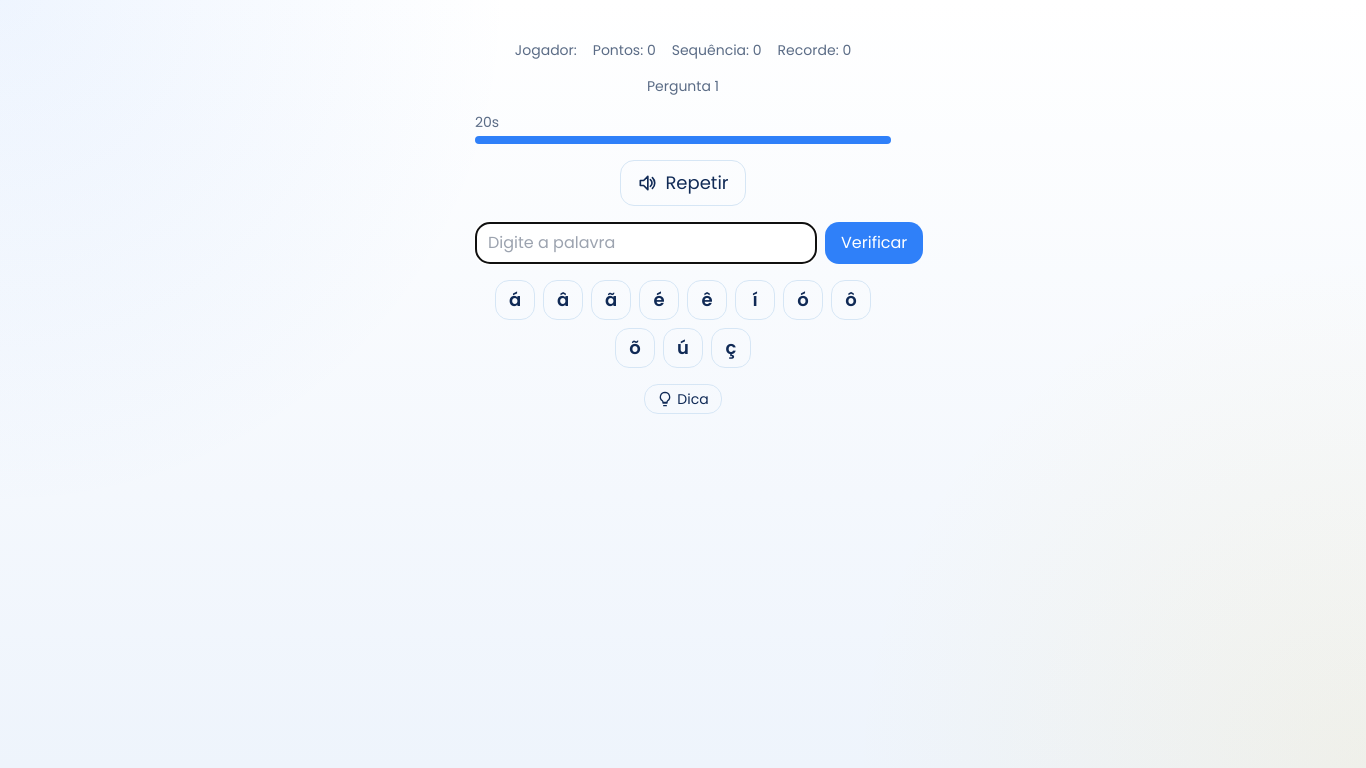
Test: Teclas de acento › adds the letter at the end when typing
Type "a" into the field.
click(646, 243); type("a")  # box x1=475 y1=222 x2=817 y2=264
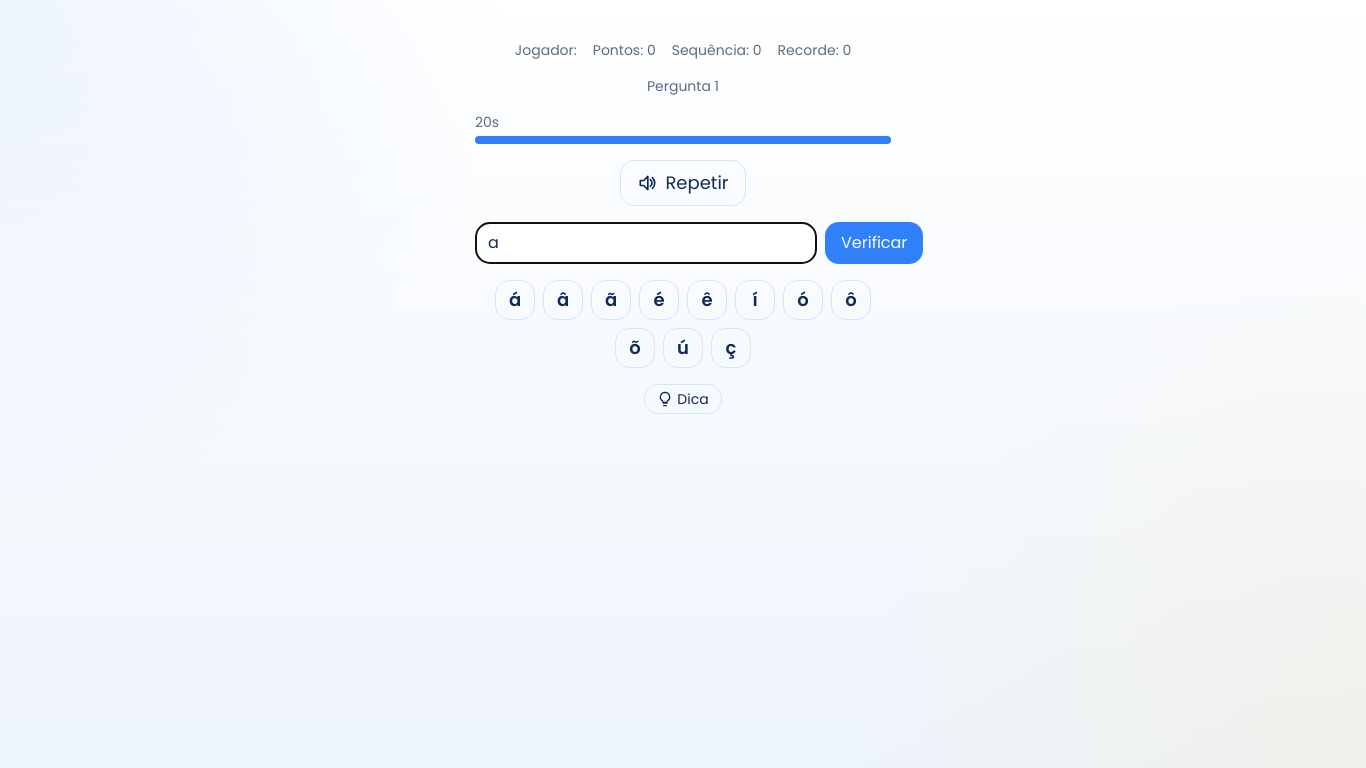
Click the button "ç".
click(731, 348)  # box x1=711 y1=328 x2=751 y2=368
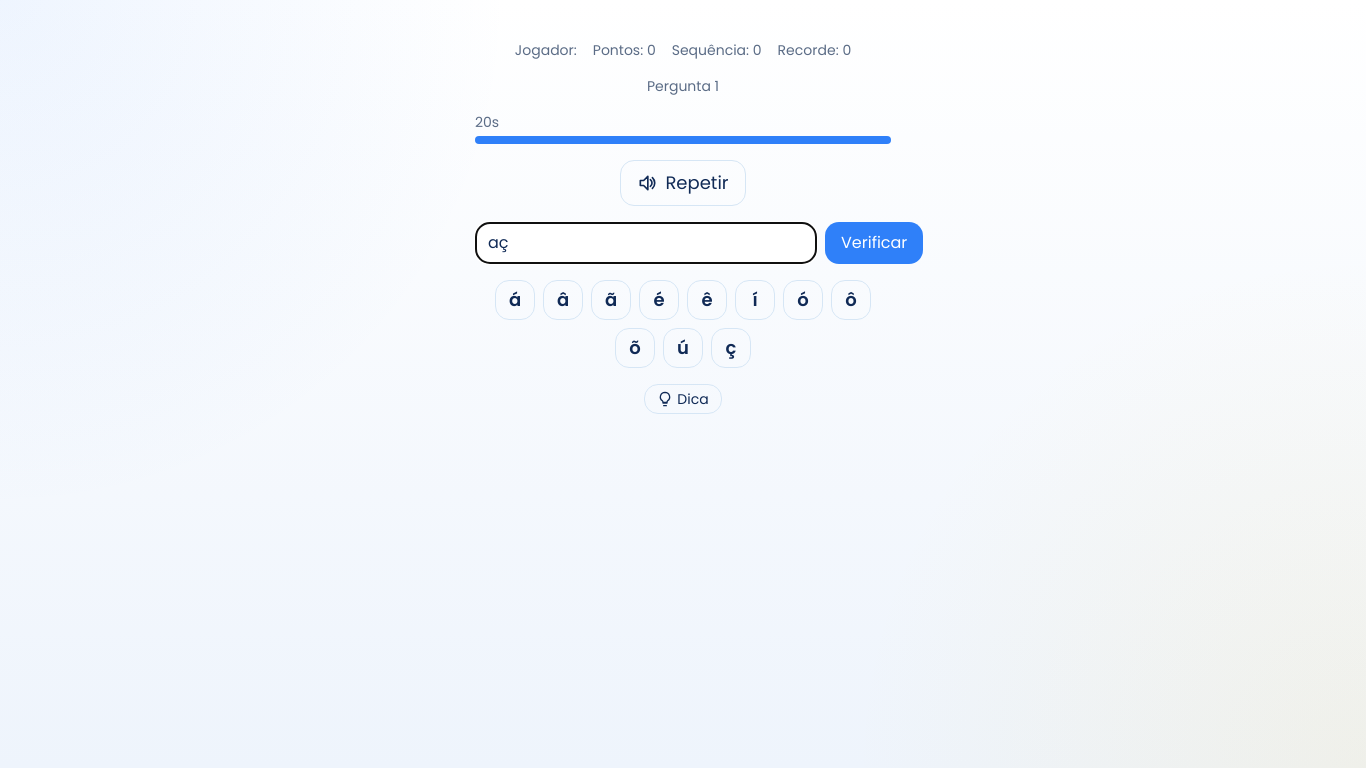
Check: the field holds "aç", box x1=475 y1=222 x2=817 y2=264
